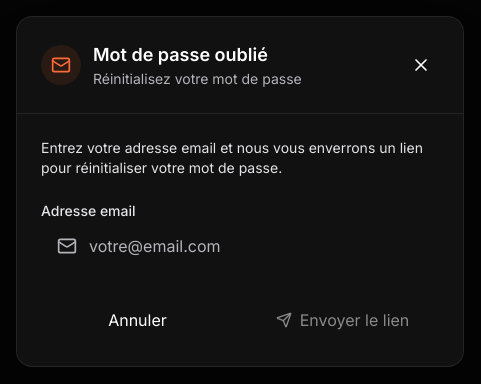
Test case: ForgotPasswordModal › submit button state › submit button is enabled when email is entered
In the field with placeholder "votre@email.com": (240, 246) [41, 222, 439, 270], type "test@example.com"
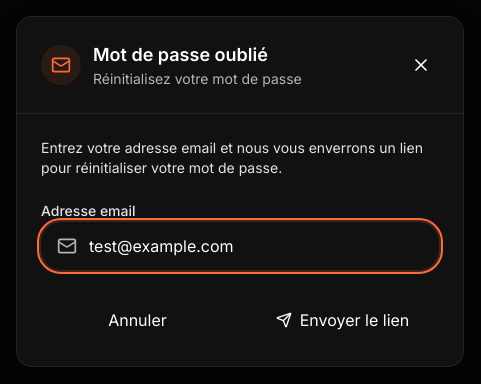
Check: the button "Envoyer le lien" is enabled, box [246, 298, 439, 342]
